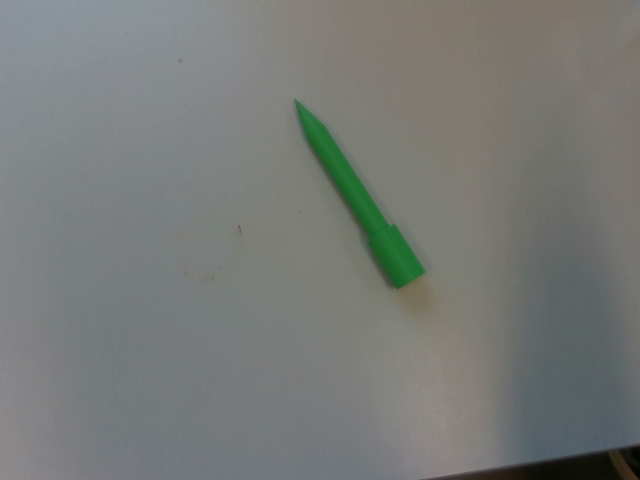Probe: (288, 89, 430, 298)
